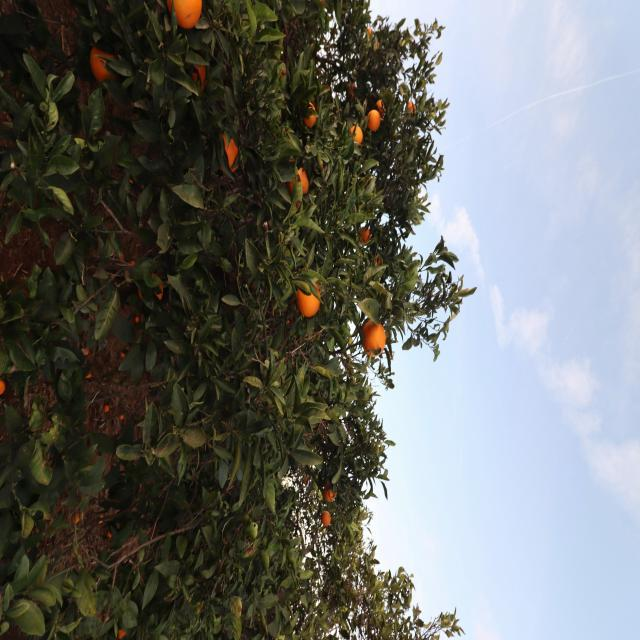Jeruk Sudah Matang: (51, 524, 82, 550), (324, 252, 355, 276), (1, 440, 27, 468), (134, 401, 172, 418), (294, 322, 318, 343), (102, 323, 130, 338), (172, 331, 198, 346), (110, 258, 134, 272), (125, 276, 148, 290), (228, 267, 244, 282), (488, 302, 504, 314), (510, 307, 526, 318), (100, 255, 116, 264), (102, 224, 115, 233)
